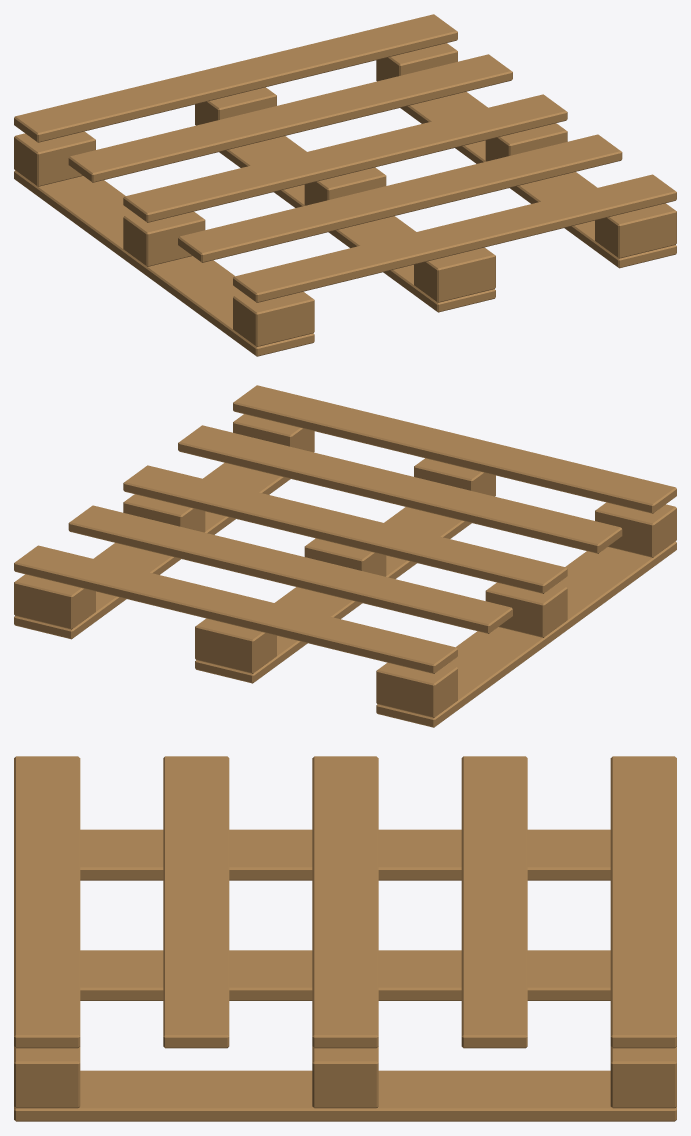
File: pallet_square.glb
3 renders of one model, top to bottom at view 1: azimuth 30°, elevation 25°; view 2: azimuth 150°, elevation 25°; view 3: azimuth 270°, elevation 25°, orthographic. The views are drawn at different scales.
Visible parts, largest first — view 1: Pallet; view 2: Pallet; view 3: Pallet.
Part boxes in pixels (box(x1,y1,x2,y2)): Pallet: box(14, 14, 676, 356); Pallet: box(14, 385, 676, 727); Pallet: box(14, 756, 676, 1121).
Size of the model in its own units: 1 by 0.144 by 1.
